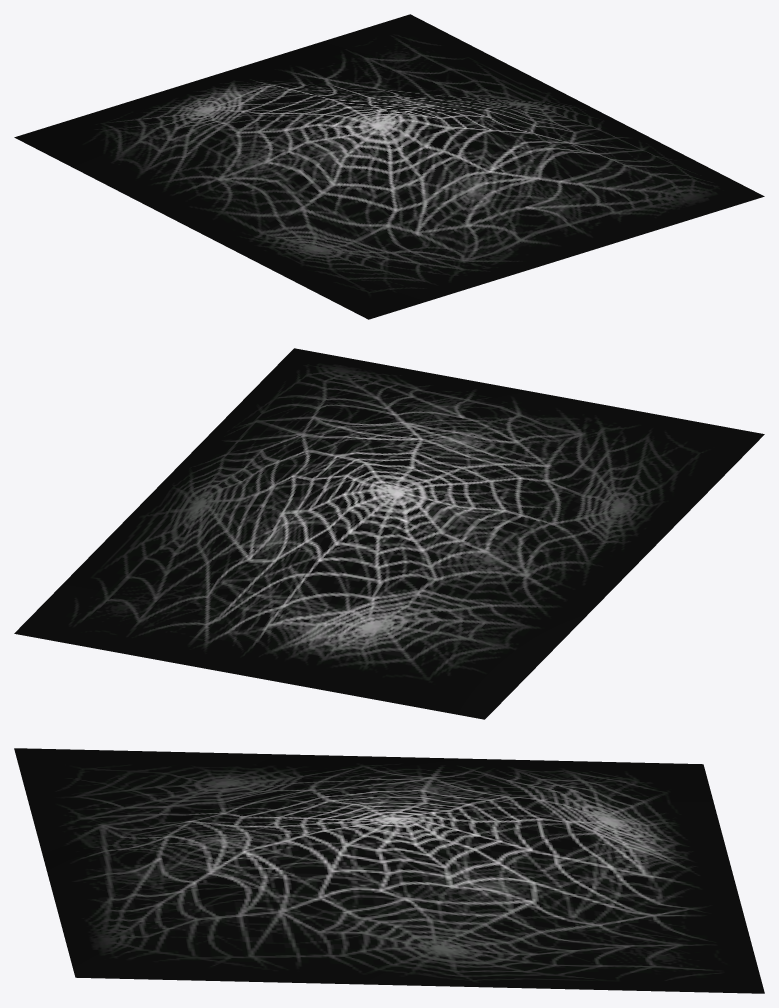
The model's file is MIRKWOOD_PLANE28.fbx.
3 renders of one model, top to bottom at view 1: azimuth 30°, elevation 25°; view 2: azimuth 150°, elevation 25°; view 3: azimuth 270°, elevation 25°, orthographic. The views are drawn at different scales.
Visible parts, largest first — view 1: MIRKWOOD_PLANE28; view 2: MIRKWOOD_PLANE28; view 3: MIRKWOOD_PLANE28.
Boxes of the visible parts, <box> form: MIRKWOOD_PLANE28: <box>14,14,764,319</box>; MIRKWOOD_PLANE28: <box>14,348,764,719</box>; MIRKWOOD_PLANE28: <box>14,748,764,993</box>.
Bounding box in the file's own units: 218082 × 29225 × 274583.
1 material, 1 textured.
